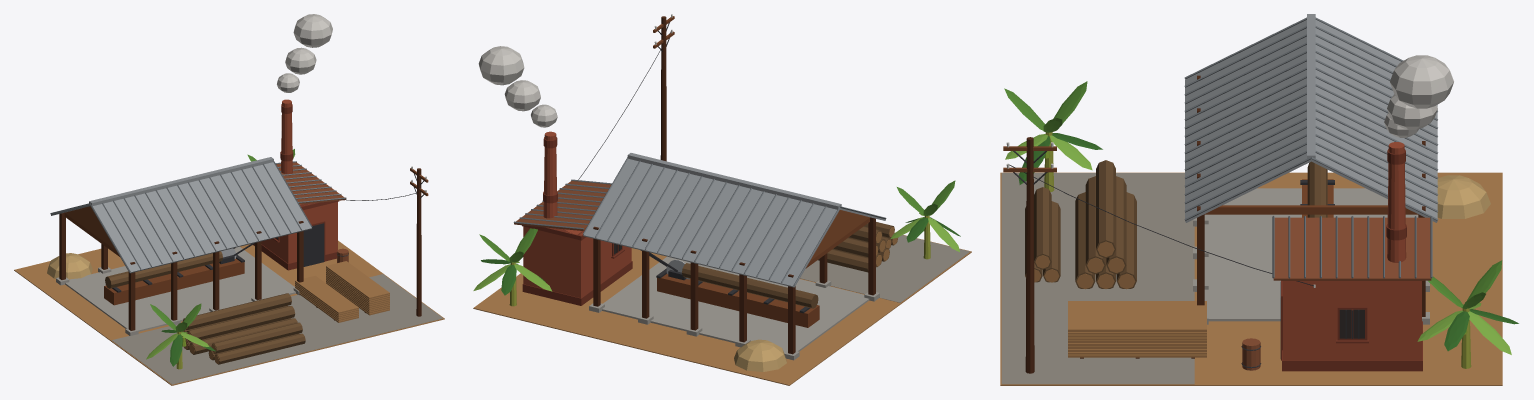
File: factory_2.glb
3 views of the same model, side by side, from view 1: azimuth 30°, elevation 25°; view 2: azimuth 150°, elevation 25°; view 3: azimuth 270°, elevation 25° (orthographic). The views are drawn at different scales.
Visible parts, largest first — view 1: body; view 2: body; view 3: body, windows.
Boxes of the visible parts, left/top/right/bottom form: body: left=14, top=14, right=444, bottom=385; body: left=473, top=14, right=971, bottom=385; body: left=1000, top=14, right=1518, bottom=385; windows: left=1339, top=309, right=1364, bottom=338.
Size of the model in its own units: 17.38 by 11.46 by 16.45.
